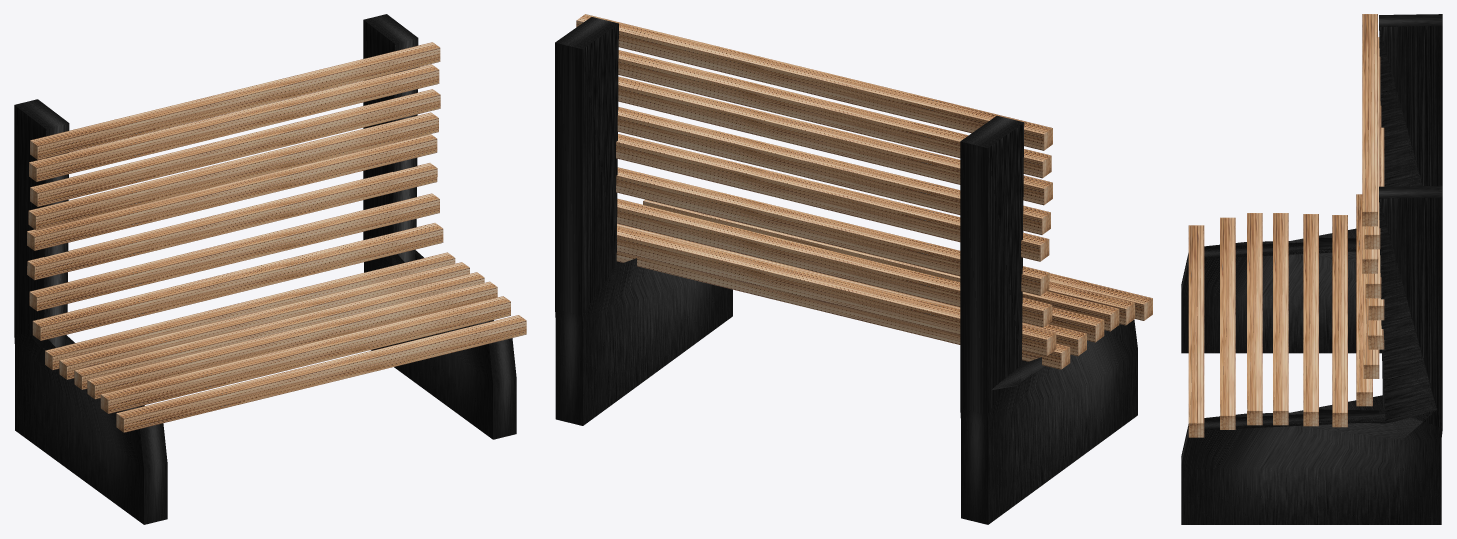
The model's file is park-bench.obj.
3 views of the same model, side by side, from view 1: azimuth 30°, elevation 25°; view 2: azimuth 150°, elevation 25°; view 3: azimuth 270°, elevation 25° (orthographic). The views are drawn at different scales.
Parts seen in each view (by area): view 1: Wood_Slat, Legs, Legs1; view 2: Wood_Slat, Legs, Legs1; view 3: Legs1, Wood_Slat, Legs.
Part boxes in pixels (x1=…): Wood_Slat: x1=27, y1=42, x2=526, y2=432; Legs: x1=14, y1=99, x2=167, y2=524; Legs1: x1=363, y1=14, x2=516, y2=439; Wood_Slat: x1=576, y1=14, x2=1152, y2=369; Legs: x1=960, y1=115, x2=1137, y2=524; Legs1: x1=555, y1=17, x2=732, y2=425; Legs1: x1=1181, y1=185, x2=1442, y2=524; Wood_Slat: x1=1188, y1=14, x2=1384, y2=437; Legs: x1=1181, y1=14, x2=1442, y2=353.
Size of the model in its own units: 3 by 2.31 by 1.67.
2 materials, 2 textured.
